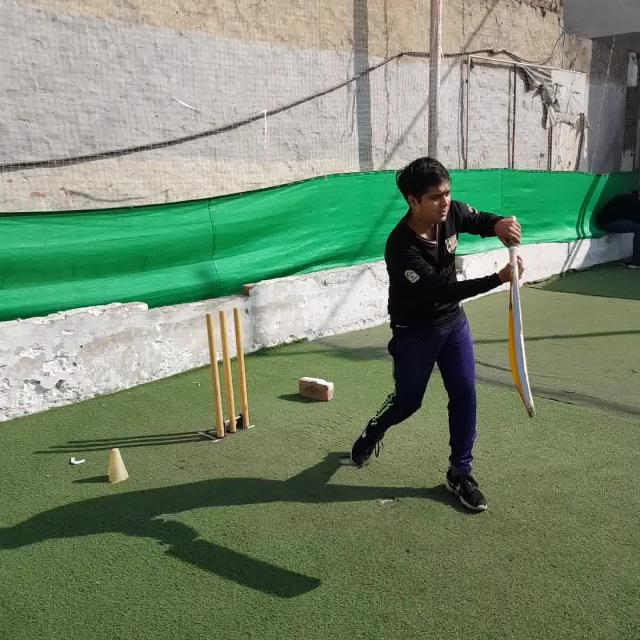bat: (508, 214, 536, 416)
